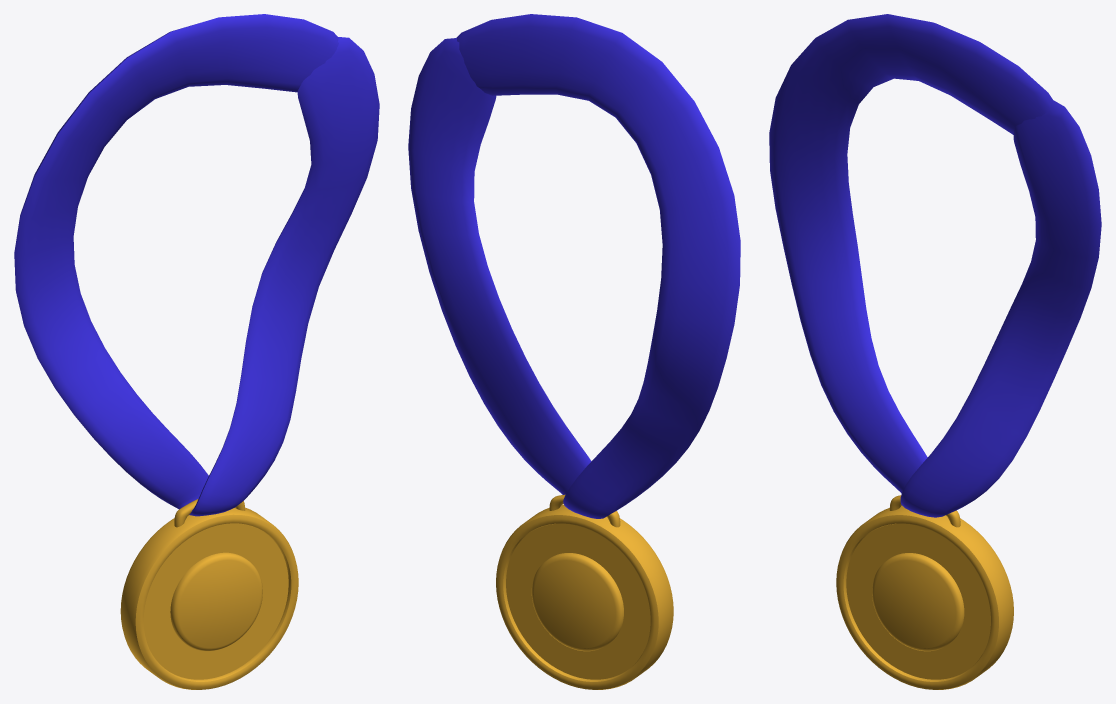
Rendered from Medalla.fbx.
The picture shows the model from 3 angles, left to right: view 1: azimuth 30°, elevation 25°; view 2: azimuth 150°, elevation 25°; view 3: azimuth 330°, elevation 25°; orthographic projection.
Visible parts, largest first — view 1: Medalla; view 2: Medalla; view 3: Medalla.
Part boxes in pixels (x1=…): Medalla: x1=14, y1=14, x2=379, y2=689; Medalla: x1=408, y1=14, x2=740, y2=689; Medalla: x1=769, y1=14, x2=1101, y2=689.
Bounding box in the file's own units: 420 × 766 × 90.1.
